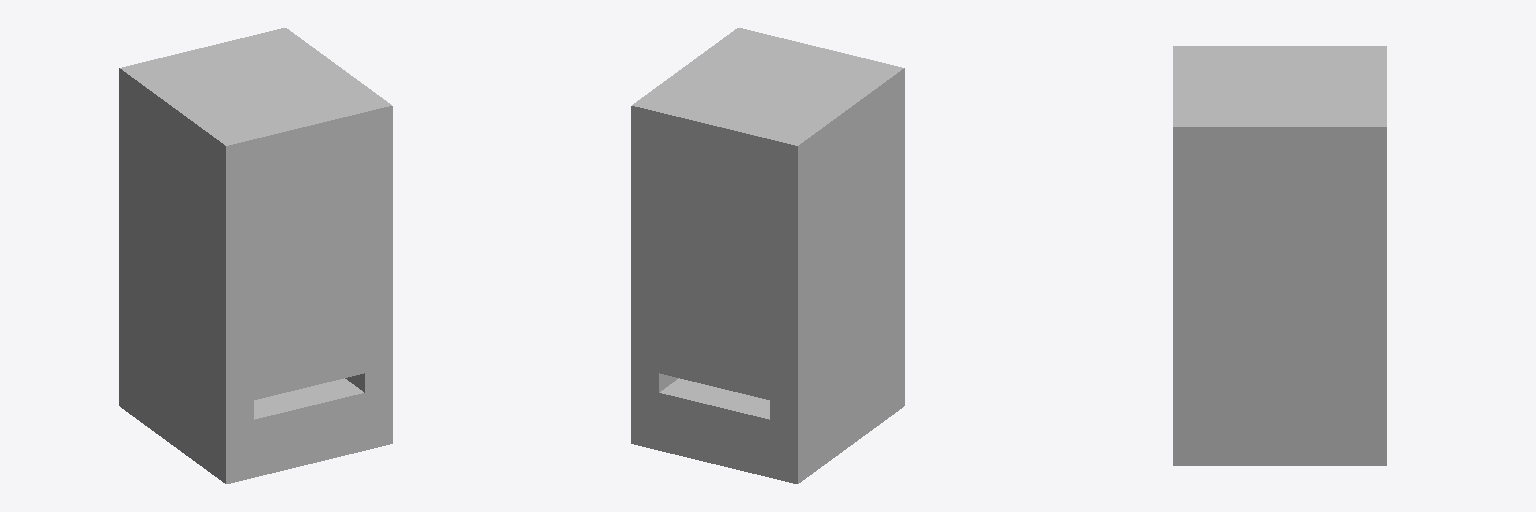
The model's file is forklift w no wheel or fork.obj.
3 renders of one model, left to right at view 1: azimuth 30°, elevation 25°; view 2: azimuth 150°, elevation 25°; view 3: azimuth 270°, elevation 25°, orthographic.
Visible parts, largest first — view 1: forklift w no wheel or fork; view 2: forklift w no wheel or fork; view 3: forklift w no wheel or fork.
Part boxes in pixels (x1,y1,x2,y2): forklift w no wheel or fork: (119,28,392,483); forklift w no wheel or fork: (631,28,904,483); forklift w no wheel or fork: (1173,46,1386,465).
Size of the model in its own units: 4.5 by 8.75 by 5.